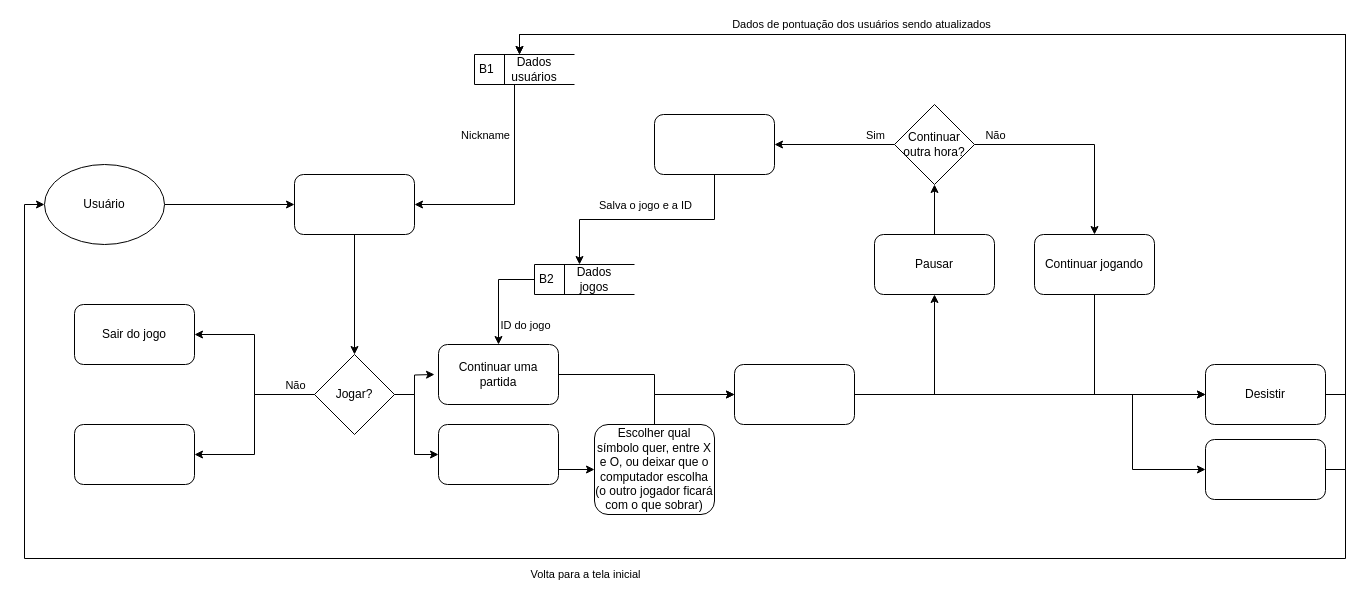
Image size: 1371x597. Some labels were removed from this diagram. Each missing label, with the centre of its shape:
Fim de jogo: [1265,469]
ID do jogo é mostrada ao usuário: [714,144]
Jogar o jogo contra outro usuário (que também fez o login): [794,394]
Novo jogo: [498,454]
Realizar Login: [354,204]
Scoreboard: [134,454]
